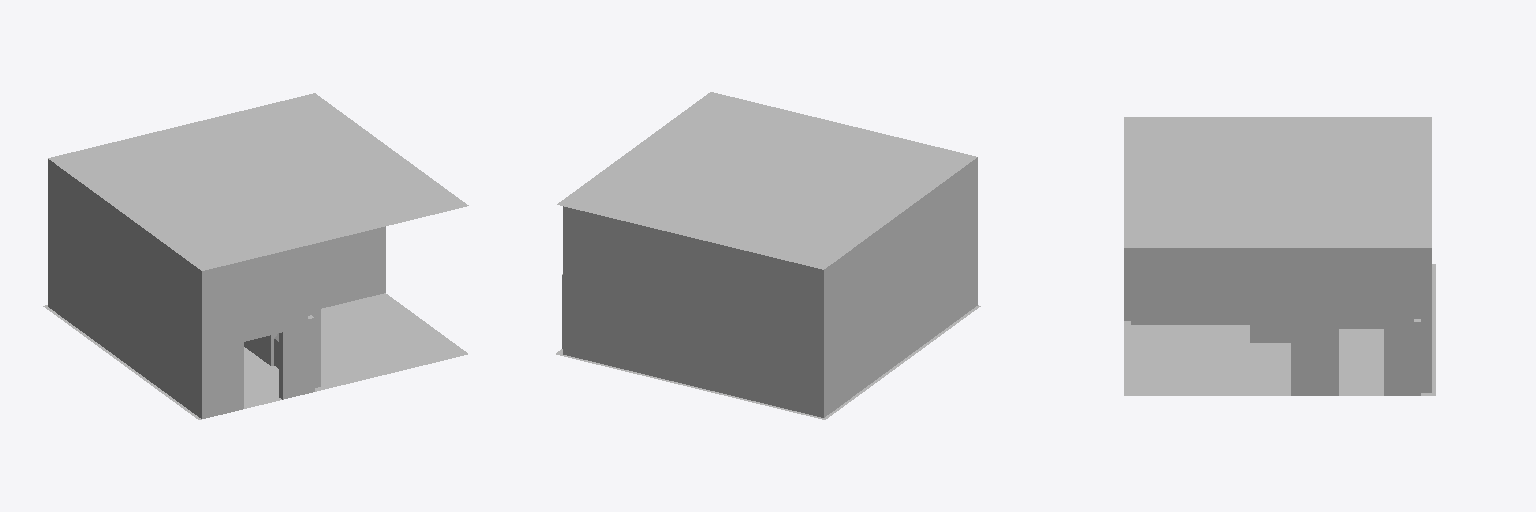
Rendered from LC_room2C_CB.obj.
3 renders of one model, left to right at view 1: azimuth 30°, elevation 25°; view 2: azimuth 150°, elevation 25°; view 3: azimuth 270°, elevation 25°, orthographic.
Parts seen in each view (by area): view 1: LC_room2C_CB; view 2: LC_room2C_CB; view 3: LC_room2C_CB.
Part boxes in pixels (bbox=[...]): LC_room2C_CB: bbox=[43, 93, 468, 419]; LC_room2C_CB: bbox=[556, 92, 980, 419]; LC_room2C_CB: bbox=[1124, 117, 1435, 395].
Size of the model in its own units: 13.44 by 7.04 by 13.44.